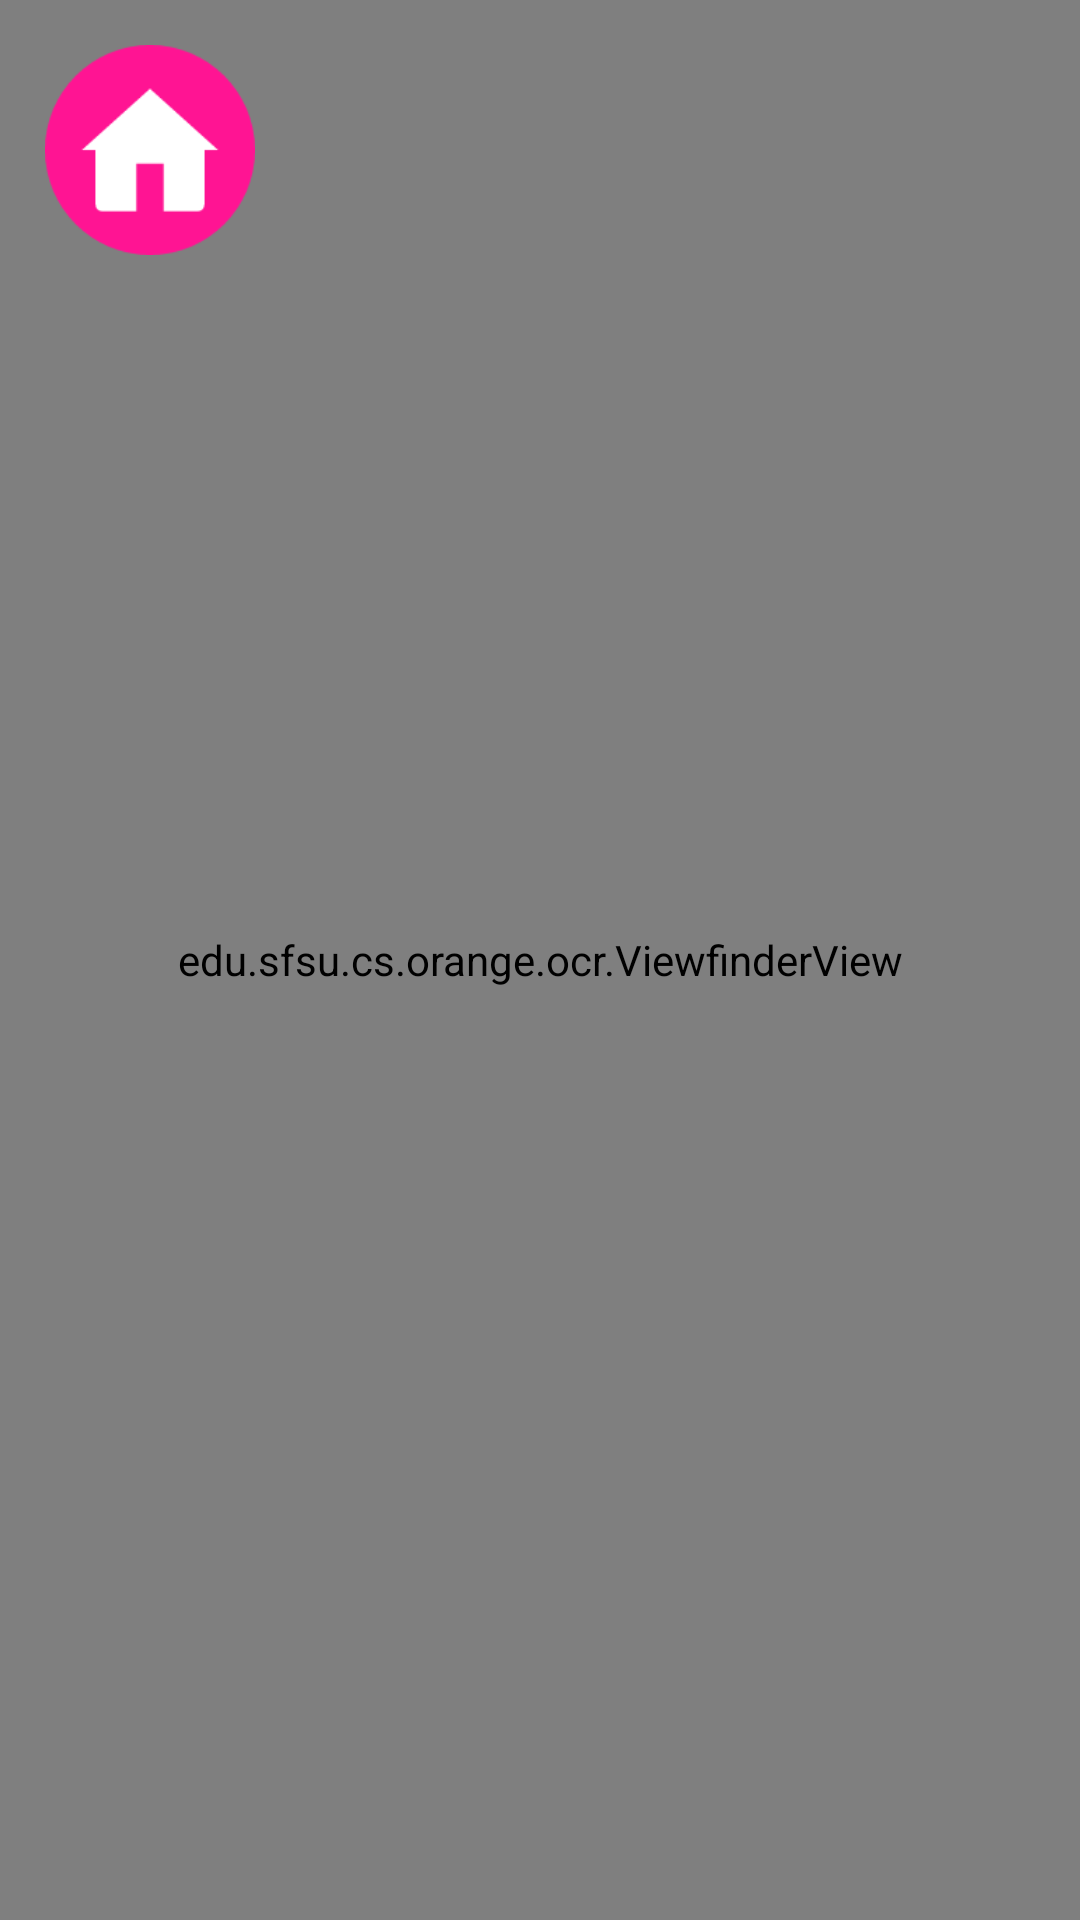

Named icons in this screenshot (1080*1920) and their bounding boxes, (x1, y1, x2, y2):
home: (45, 45, 255, 255)
